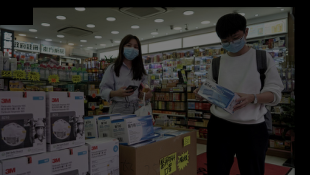with_mask: (219, 31, 246, 54), (120, 42, 139, 62)
